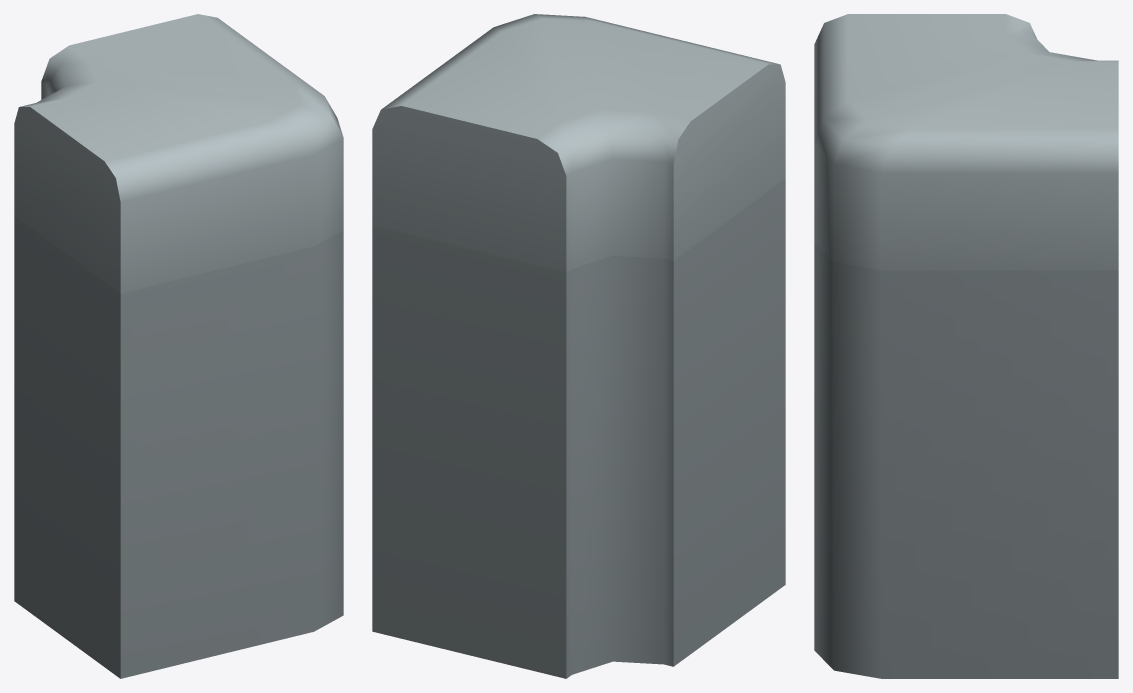
File: Wall Edge.fbx
The picture shows the model from 3 angles, left to right: view 1: azimuth 30°, elevation 25°; view 2: azimuth 150°, elevation 25°; view 3: azimuth 270°, elevation 25°; orthographic projection. The views are drawn at different scales.
Visible parts, largest first — view 1: Wall_Edge; view 2: Wall_Edge; view 3: Wall_Edge.
Part boxes in pixels (x1=…): Wall_Edge: x1=14, y1=14, x2=343, y2=678; Wall_Edge: x1=372, y1=14, x2=785, y2=678; Wall_Edge: x1=814, y1=14, x2=1118, y2=678.
Size of the model in its own units: 27 by 52.47 by 27.
1 material, 1 textured.
